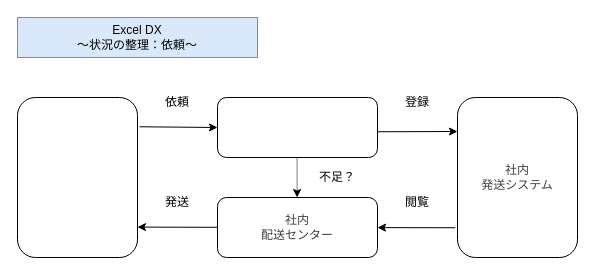
This 595x275 diagram has some shape labels left out. Here are the shapes that lost their labels. From the top down, the centre of each, then its label:
the point at 297,127: 社内 流通部：データ入力
the point at 77,177: 社外 依頼者
